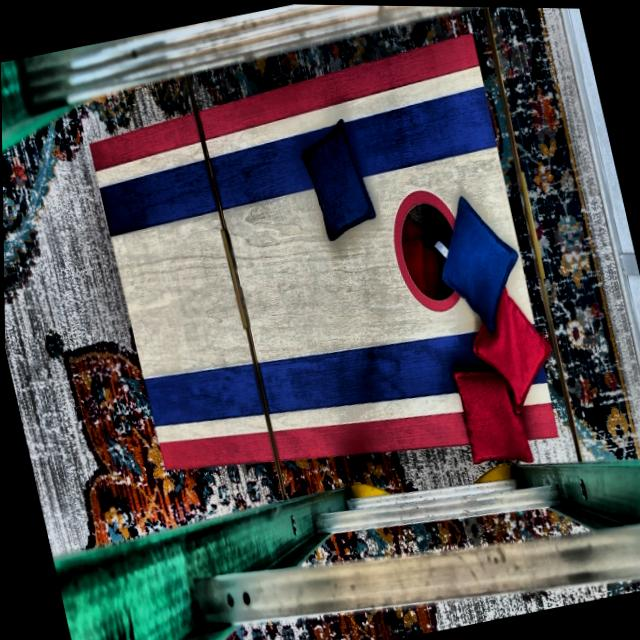blue-bean-bag: (424, 185, 531, 335), (291, 114, 378, 241)
blue-bean-bag-in-hole: (411, 196, 455, 255), (425, 247, 454, 299)
board: (88, 61, 549, 471)
hole: (381, 180, 474, 316)
red-bean-bag: (459, 284, 561, 417), (452, 360, 530, 467)
red-bean-bag-in-hole: (398, 213, 444, 302), (398, 235, 431, 297)
